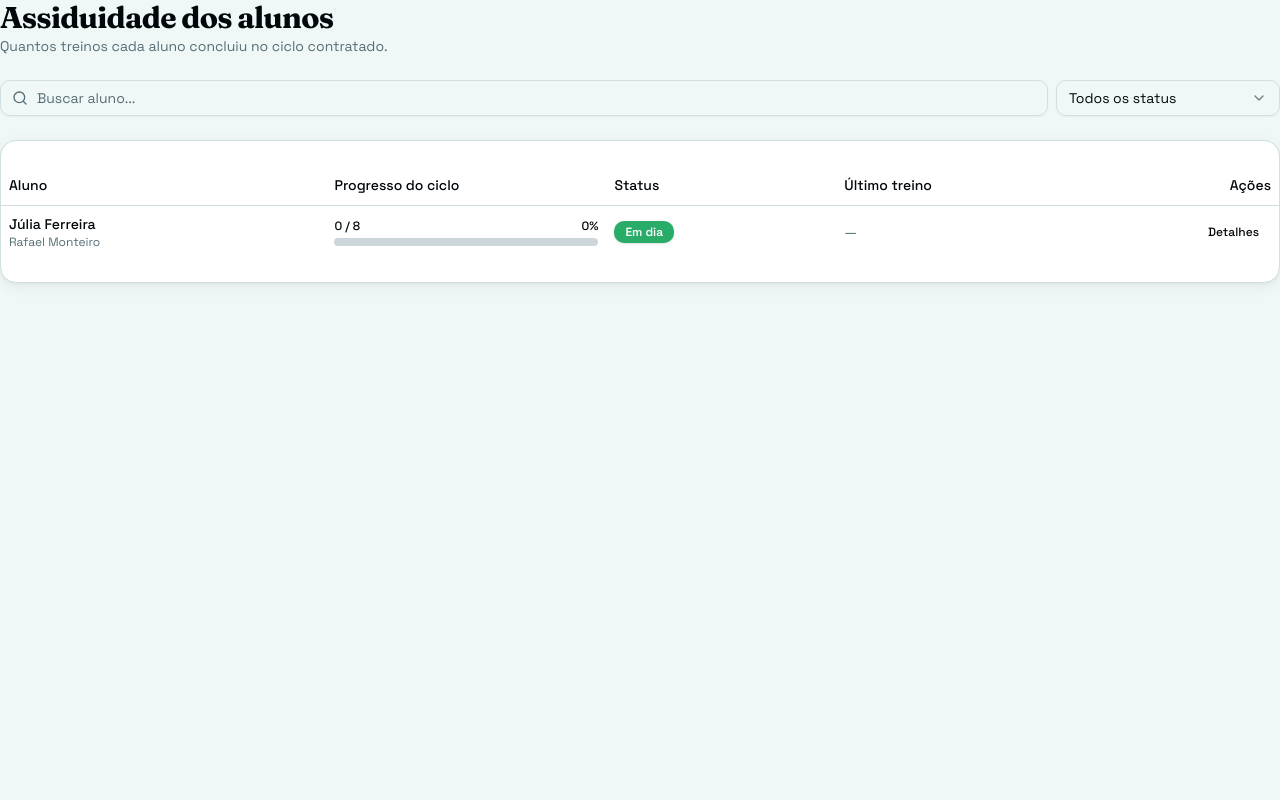
Test: AssiduidadeAlunosPage › lists a check-in the personal performed as pending the student's confirmation, read-only
The width and height of the screenshot is (1280, 800).
Expected: the text "Júlia Ferreira" is shown, 9,214 -> 96,232
Click the button "Detalhes" at [1234, 232], box 1196,216 -> 1271,248
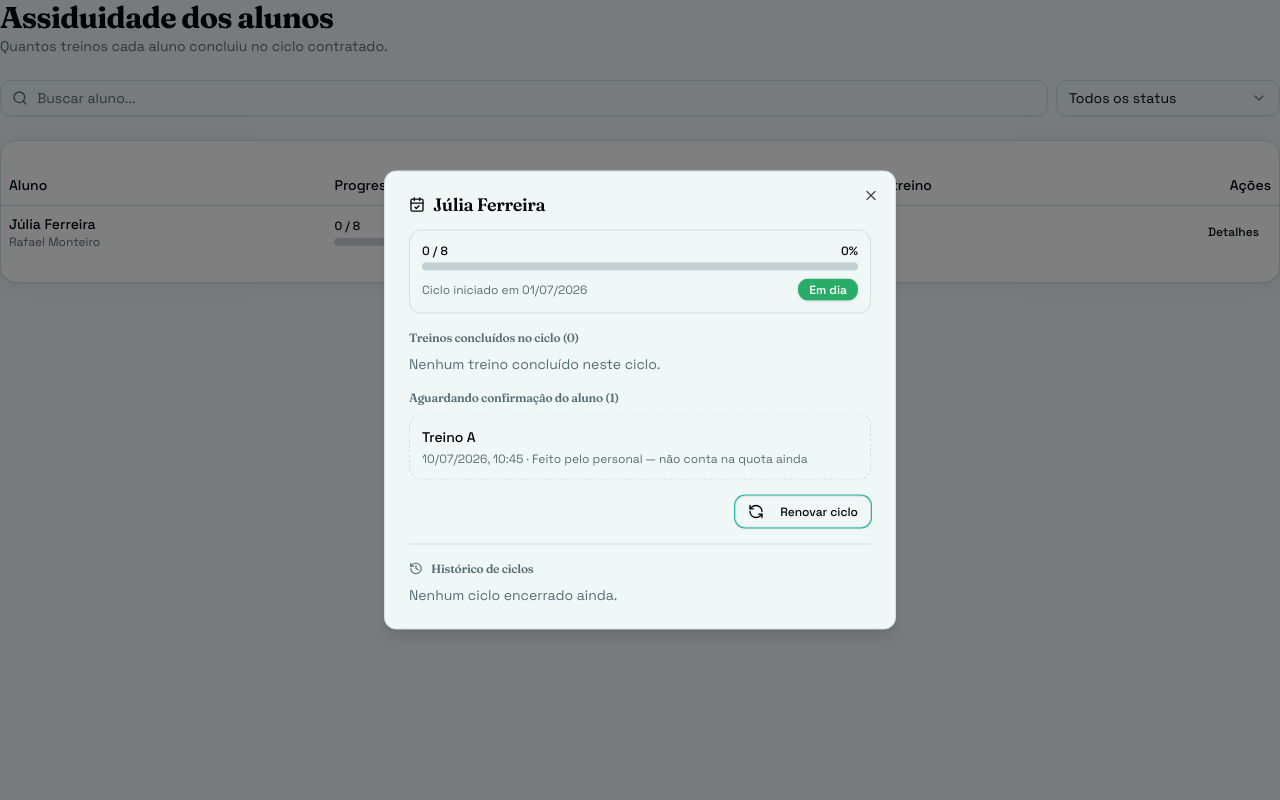
Expected: the heading "Treinos concluídos no ciclo (0)" is shown, 409,330 -> 579,344
Expected: the heading "Aguardando confirmação do aluno (1)" is shown, 409,390 -> 619,404
